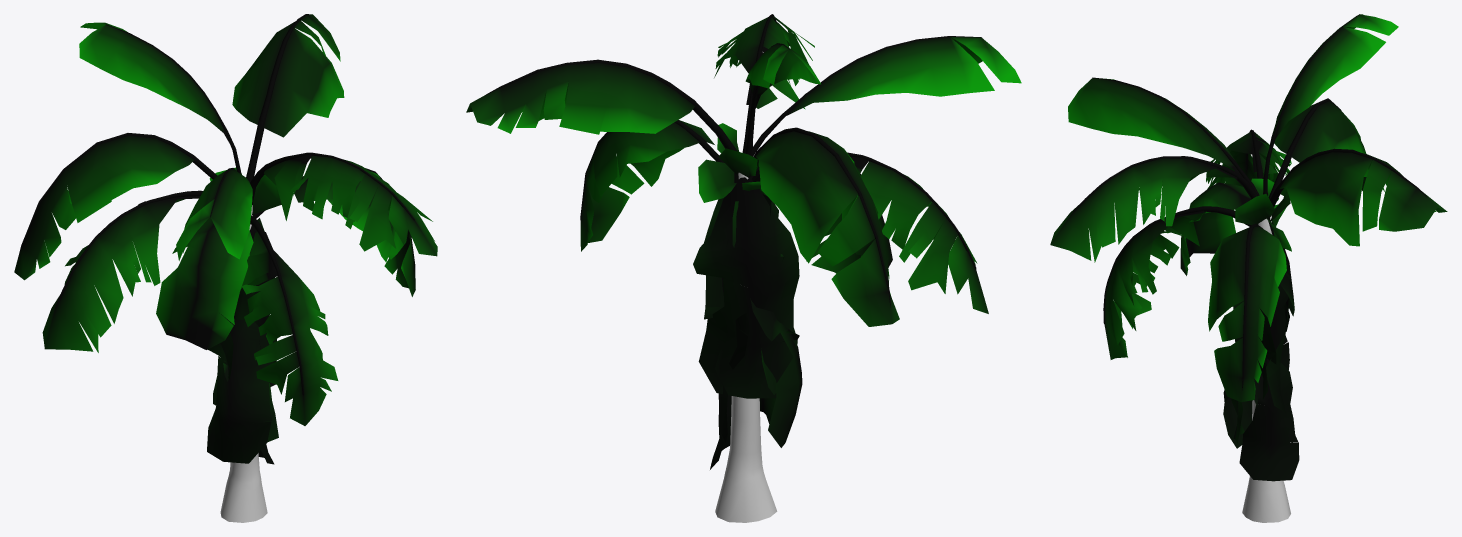
The model's file is BananaTree02_afsTREE_xlprl05_xlod00.fbx.
The picture shows the model from 3 angles, left to right: view 1: azimuth 30°, elevation 25°; view 2: azimuth 150°, elevation 25°; view 3: azimuth 270°, elevation 25°; orthographic projection. The views are drawn at different scales.
Parts seen in each view (by area): view 1: DyingBranch_xw03_xt05_xlp01_xp05, DyingBranch_xw03_xt05_xlp02_xp10, BananaLeaf_xw05_xt06_xlp04_xp02, BananaLeaf_xw09_xt10_xlp08_xp10, DyingBranch_xw07_xt10_xlp06_xp03, DeadBananaLeaf_xw01_xt03_xlp01_xp01, DeadBananaLeaf_xw00_xt00_xlp00.009, BananaLeaf_xw09_xt10_xlp09_xp01, BananaLeaf_xw08_xt11_xlp07_xp06, trunk_BananaTree01_xw03_xt02, BananaLeaf_xw04_xt07_xlp03_xp08, DeadBananaLeaf_xw01_xt01_xlp01_xp07.002; view 2: DeadBananaLeaf_xw00_xt00_xlp00.010, BananaLeaf_xw05_xt06_xlp04_xp02, BananaLeaf_xw09_xt10_xlp08_xp10, BananaLeaf_xw08_xt11_xlp07_xp06, DyingBranch_xw03_xt05_xlp01_xp05, BananaLeaf_xw04_xt07_xlp03_xp08, trunk_BananaTree01_xw03_xt02, DyingBranch_xw07_xt10_xlp06_xp03, DeadBananaLeaf_xw00_xt00_xlp00.009, BananaLeaf_xw09_xt10_xlp09_xp01, DeadBananaLeaf_xw01_xt01_xlp01_xp07.003, DeadBananaLeaf_xw00_xt00_xlp00.007 (+3 smaller); view 3: BananaLeaf_xw09_xt10_xlp08_xp10, BananaLeaf_xw04_xt07_xlp03_xp08, DyingBranch_xw07_xt10_xlp06_xp03, BananaLeaf_xw08_xt11_xlp07_xp06, DyingBranch_xw03_xt05_xlp02_xp10, BananaLeaf_xw09_xt10_xlp09_xp01, DeadBananaLeaf_xw00_xt00_xlp00.011, BananaLeaf_xw05_xt06_xlp04_xp02, DeadBananaLeaf_xw01_xt03_xlp01_xp01, DyingBranch_xw03_xt05_xlp01_xp05, trunk_BananaTree01_xw03_xt02, DeadBananaLeaf_xw00_xt00_xlp00.010 (+4 smaller).
Part boxes in pixels (<box>): DyingBranch_xw03_xt05_xlp01_xp05: <box>42,190,202,352</box>; DyingBranch_xw03_xt05_xlp02_xp10: <box>241,215,338,425</box>; BananaLeaf_xw05_xt06_xlp04_xp02: <box>14,133,217,280</box>; BananaLeaf_xw09_xt10_xlp08_xp10: <box>232,14,344,182</box>; DyingBranch_xw07_xt10_xlp06_xp03: <box>250,152,437,256</box>; DeadBananaLeaf_xw01_xt03_xlp01_xp01: <box>156,217,253,349</box>; DeadBananaLeaf_xw00_xt00_xlp00.009: <box>207,318,272,463</box>; BananaLeaf_xw09_xt10_xlp09_xp01: <box>79,22,241,173</box>; BananaLeaf_xw08_xt11_xlp07_xp06: <box>176,168,252,260</box>; trunk_BananaTree01_xw03_xt02: <box>220,205,267,522</box>; BananaLeaf_xw04_xt07_xlp03_xp08: <box>252,168,415,296</box>; DeadBananaLeaf_xw01_xt01_xlp01_xp07.002: <box>252,174,281,214</box>; DeadBananaLeaf_xw00_xt00_xlp00.010: <box>693,168,799,398</box>; BananaLeaf_xw05_xt06_xlp04_xp02: <box>753,127,899,326</box>; BananaLeaf_xw09_xt10_xlp08_xp10: <box>466,59,737,151</box>; BananaLeaf_xw08_xt11_xlp07_xp06: <box>751,36,1021,156</box>; DyingBranch_xw03_xt05_xlp01_xp05: <box>752,152,988,313</box>; BananaLeaf_xw04_xt07_xlp03_xp08: <box>580,120,724,251</box>; trunk_BananaTree01_xw03_xt02: <box>715,172,777,522</box>; DyingBranch_xw07_xt10_xlp06_xp03: <box>714,14,814,153</box>; DeadBananaLeaf_xw00_xt00_xlp00.009: <box>750,298,802,447</box>; BananaLeaf_xw09_xt10_xlp09_xp01: <box>745,43,820,155</box>; DeadBananaLeaf_xw01_xt01_xlp01_xp07.003: <box>698,159,736,202</box>; DeadBananaLeaf_xw00_xt00_xlp00.007: <box>704,194,799,342</box>; BananaLeaf_xw09_xt10_xlp08_xp10: <box>1270,148,1447,246</box>; BananaLeaf_xw04_xt07_xlp03_xp08: <box>1208,223,1286,401</box>; DyingBranch_xw07_xt10_xlp06_xp03: <box>1050,156,1257,262</box>; BananaLeaf_xw08_xt11_xlp07_xp06: <box>1068,77,1259,195</box>; DyingBranch_xw03_xt05_xlp02_xp10: <box>1103,206,1251,359</box>; BananaLeaf_xw09_xt10_xlp09_xp01: <box>1263,14,1398,195</box>; DeadBananaLeaf_xw00_xt00_xlp00.011: <box>1239,359,1299,481</box>; BananaLeaf_xw05_xt06_xlp04_xp02: <box>1268,98,1366,199</box>; DeadBananaLeaf_xw01_xt03_xlp01_xp01: <box>1180,182,1250,275</box>; DyingBranch_xw03_xt05_xlp01_xp05: <box>1206,129,1291,195</box>; trunk_BananaTree01_xw03_xt02: <box>1242,215,1290,522</box>; DeadBananaLeaf_xw00_xt00_xlp00.010: <box>1233,217,1294,412</box>.
Size of the model in its own units: 3.36 by 3.17 by 4.02.
